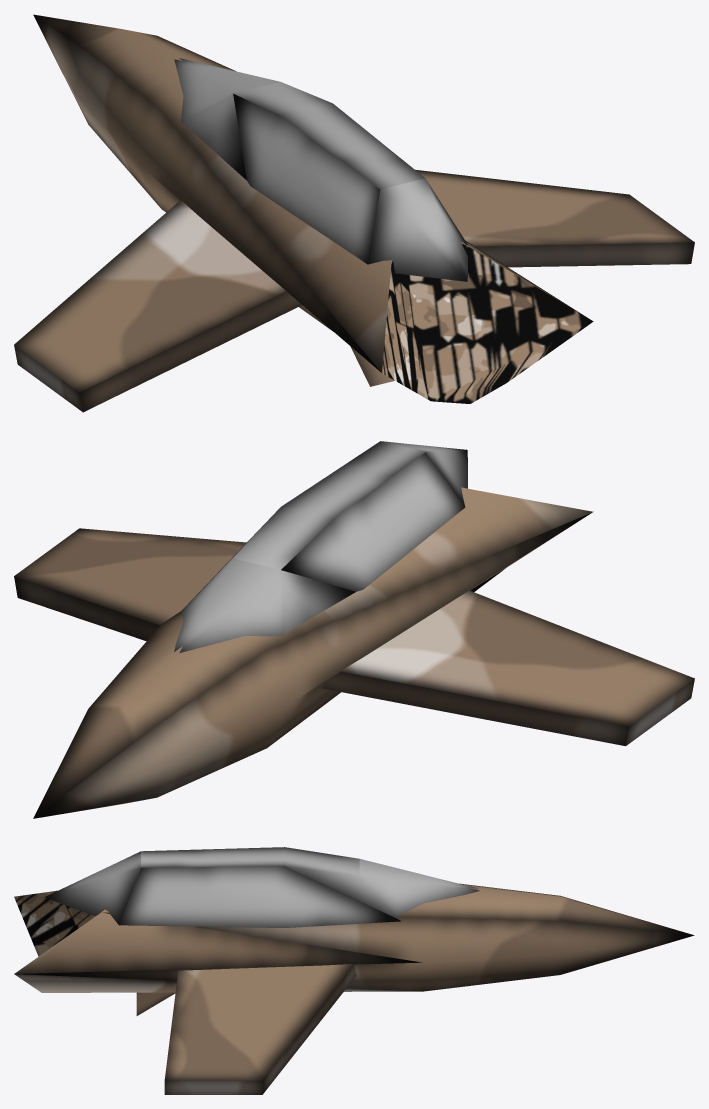
Rendered from F35egerDestructionPart2.fbx.
3 views of the same model, one above another, from view 1: azimuth 30°, elevation 25°; view 2: azimuth 150°, elevation 25°; view 3: azimuth 270°, elevation 25° (orthographic). The views are drawn at different scales.
Visible parts, largest first — view 1: Flieger__Rumpf_; view 2: Flieger__Rumpf_; view 3: Flieger__Rumpf_.
Boxes of the visible parts, <box> form: Flieger__Rumpf_: <box>14,14,694,412</box>; Flieger__Rumpf_: <box>14,441,694,818</box>; Flieger__Rumpf_: <box>14,847,694,1094</box>.
Size of the model in its own units: 5.96 by 1.81 by 7.62.
1 material, 1 textured.
